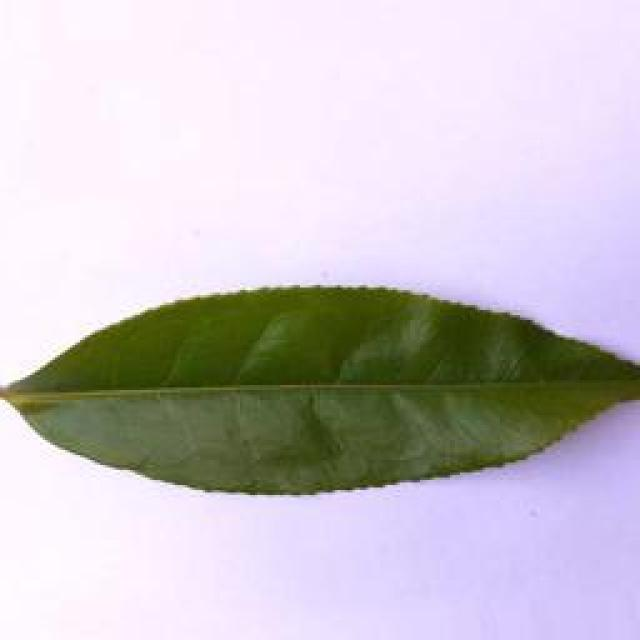Healthy: (2, 277, 640, 485)
